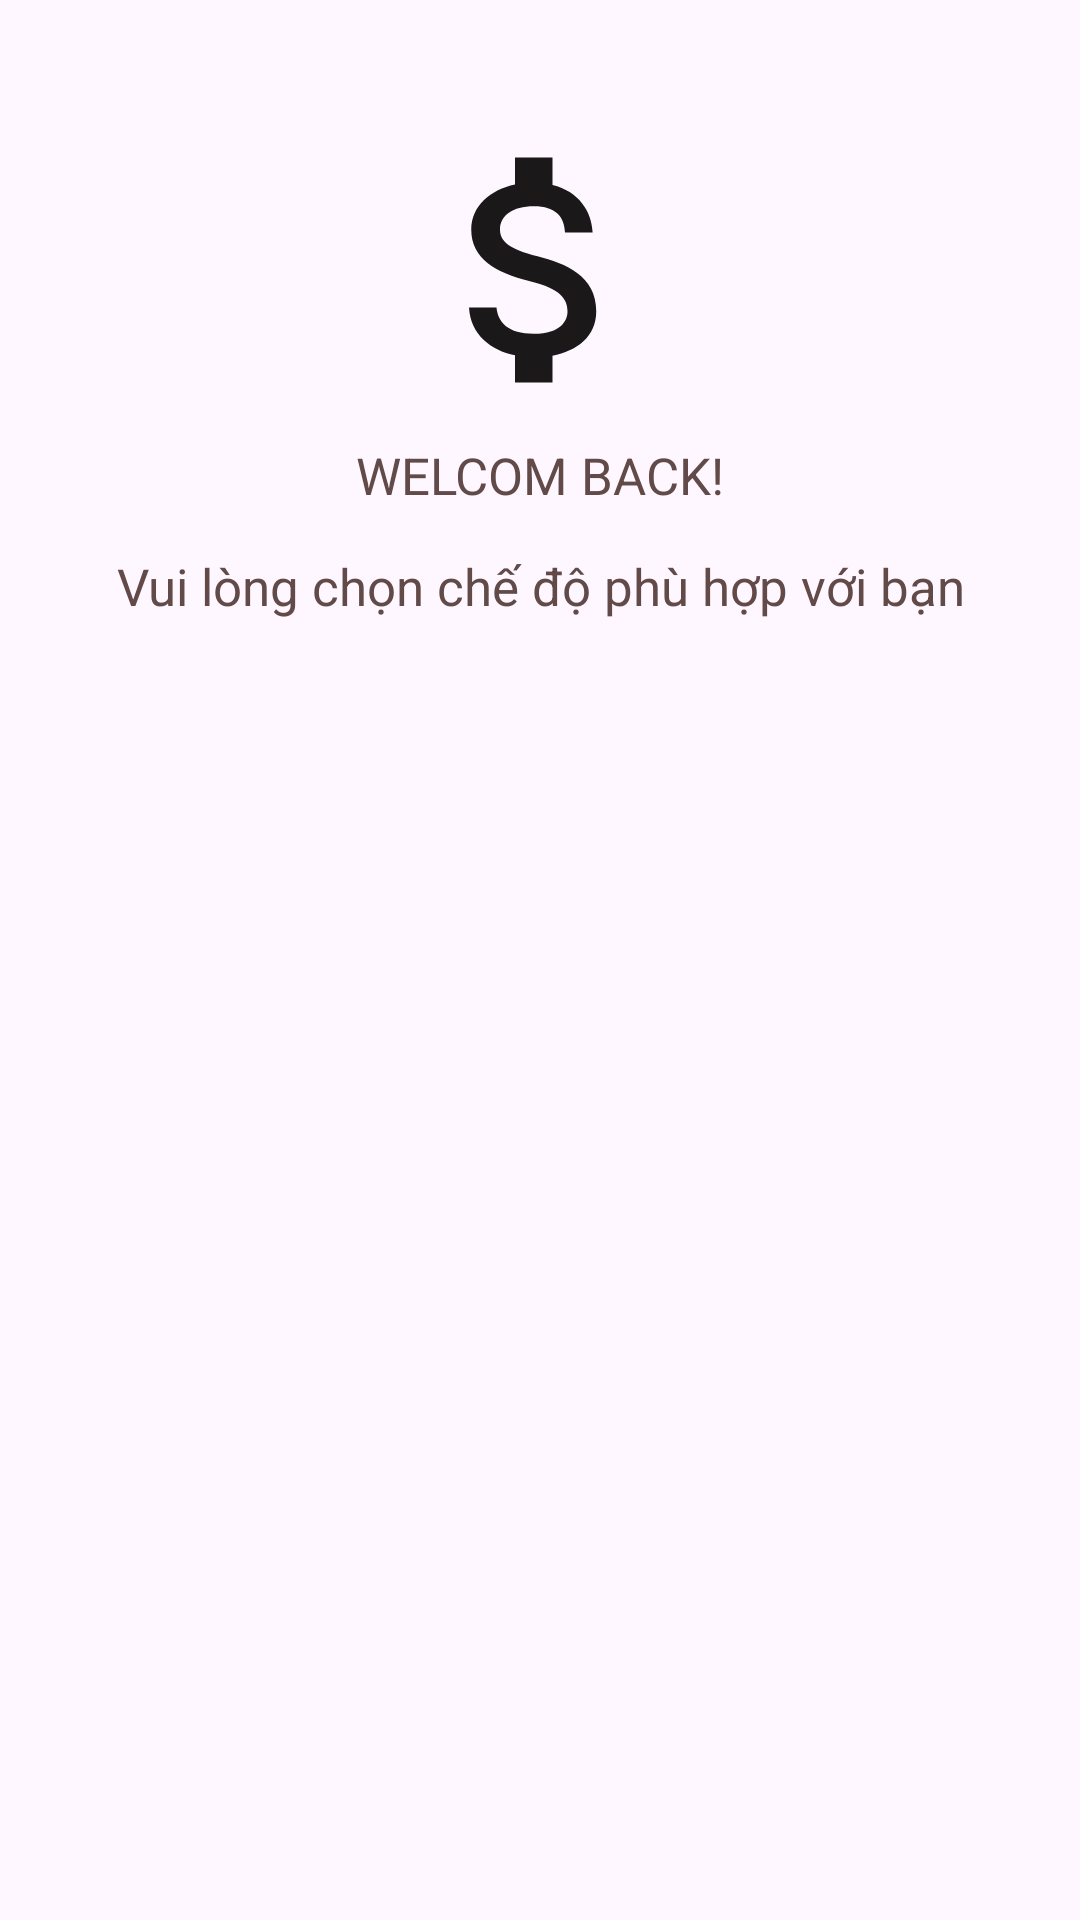

Named icons in this screenshot (1080 x 1920) and their bounding boxes, rect(x1, y1, x2, y2):
iconmoney: rect(469, 157, 597, 383)
